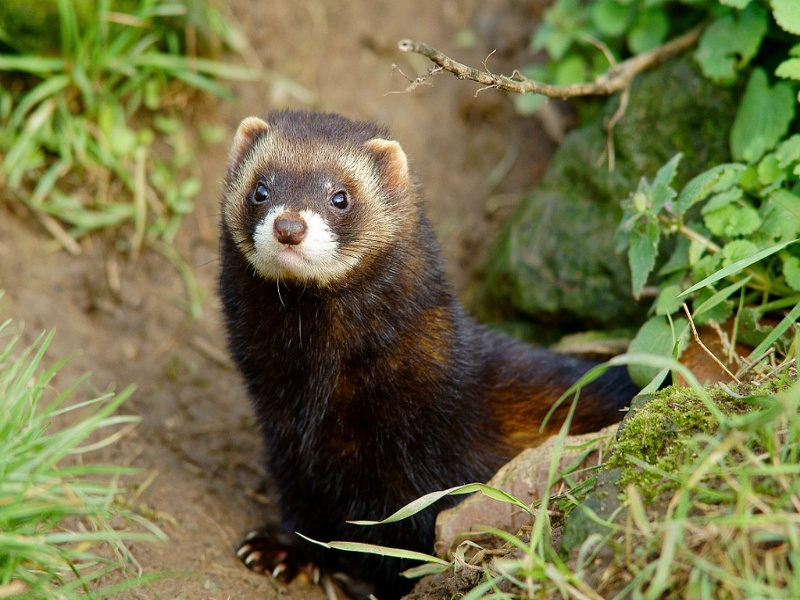minkish: (204, 107, 706, 600)
